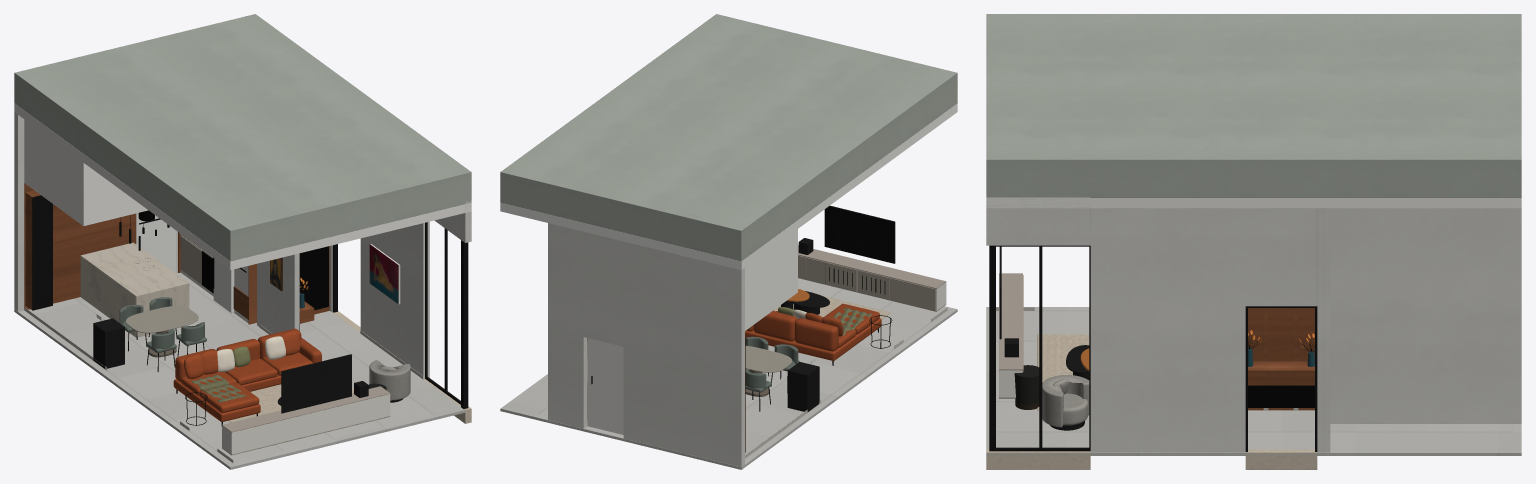
File: casa_social.glb
3 renders of one model, left to right at view 1: azimuth 30°, elevation 25°; view 2: azimuth 150°, elevation 25°; view 3: azimuth 270°, elevation 25°, orthographic. The views are drawn at different scales.
Visible parts, largest first — view 1: ZONA_social; view 2: ZONA_social; view 3: ZONA_social.
Part boxes in pixels (bbox=[...]): ZONA_social: bbox=[14, 14, 471, 469]; ZONA_social: bbox=[500, 14, 957, 469]; ZONA_social: bbox=[986, 14, 1521, 469].
Size of the model in its own units: 5.77 by 5.73 by 8.96.
1 material, 1 textured.
